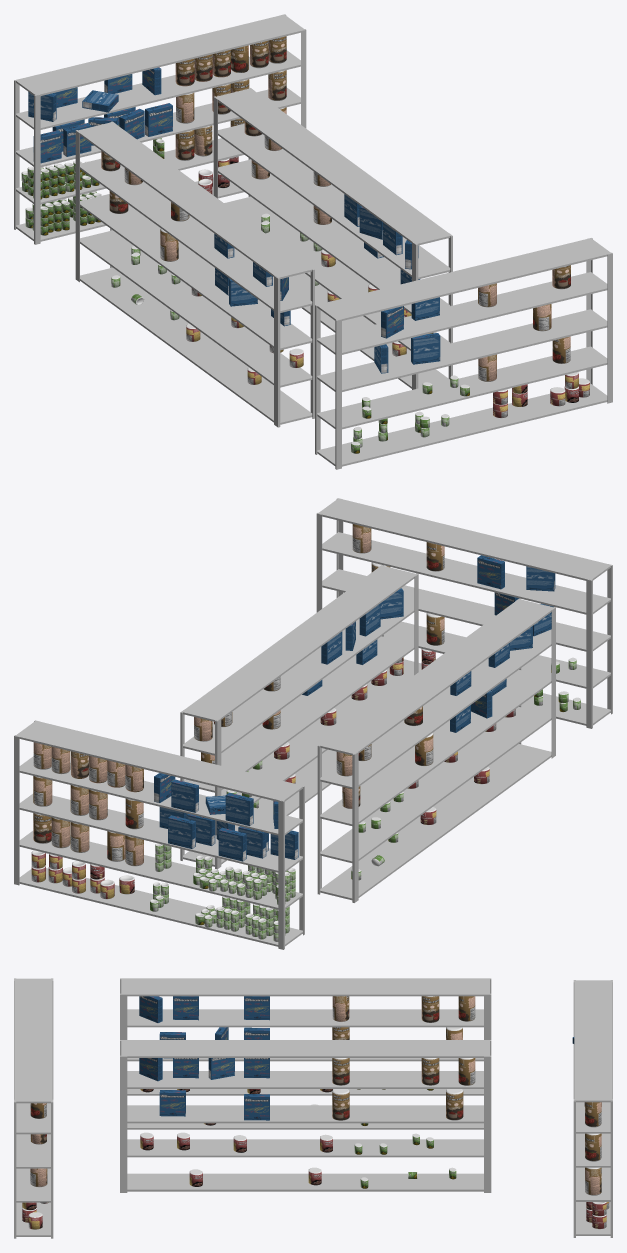
File: Pantry.fbx
3 renders of one model, top to bottom at view 1: azimuth 30°, elevation 25°; view 2: azimuth 150°, elevation 25°; view 3: azimuth 270°, elevation 25°, orthographic. The views are drawn at different scales.
Visible parts, largest first — view 1: Shelf.002, Shelf, Shelf.001, Shelf.003; view 2: Shelf.001, Shelf.002, Shelf.003, Shelf; view 3: Shelf.003, Shelf.002, Shelf, Shelf.001.
Part boxes in pixels (x1=…): Shelf.002: x1=75, y1=121, x2=314, y2=427; Shelf: x1=315, y1=238, x2=612, y2=469; Shelf.001: x1=14, y1=14, x2=306, y2=244; Shelf.003: x1=213, y1=88, x2=452, y2=389; Shelf.001: x1=14, y1=720, x2=304, y2=949; Shelf.002: x1=317, y1=598, x2=555, y2=902; Shelf.003: x1=180, y1=565, x2=418, y2=869; Shelf: x1=316, y1=498, x2=612, y2=728; Shelf.003: x1=120, y1=1040, x2=491, y2=1192; Shelf.002: x1=120, y1=978, x2=491, y2=1129; Shelf: x1=14, y1=978, x2=53, y2=1238; Shelf.001: x1=572, y1=980, x2=612, y2=1237.
Size of the model in its own units: 389 by 201 by 795.
